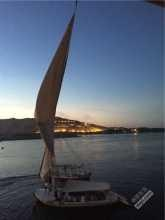fanchuan: (24, 1, 136, 208)
